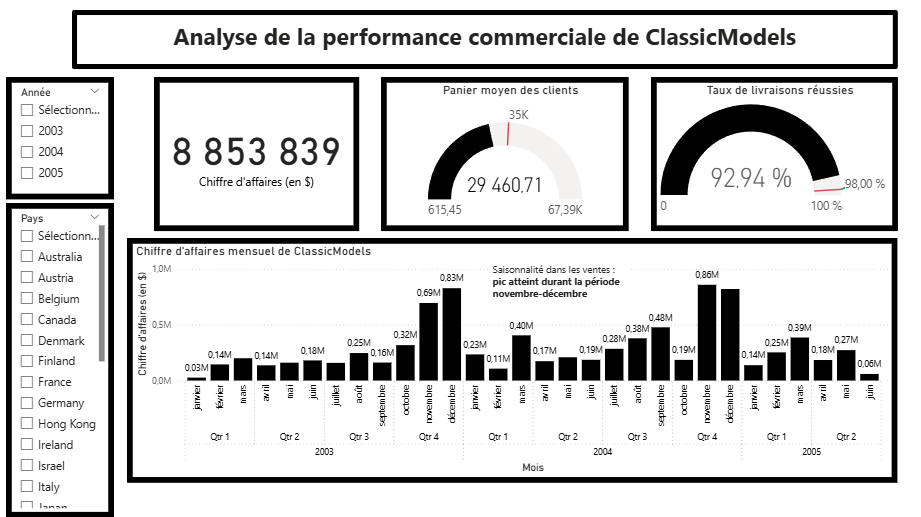

This screenshot's page, from the dashboard's own definition file:
{"tool":"powerbi","page":{"name":"Page 1","canvas":[1280,720],"ordinal":0},"visuals":[{"type":"columnChart","title":"Chiffre d''affaires mensuel de ClassicModels","fields":{"Y":["Sum(payments.ventes)"],"Category":["payments.Année","payments.paymentDate.Variation.Hiérarchie de dates.Trimestre","payments.paymentDate.Variation.Hiérarchie de dates.Mois"]},"box":[178.3,330,1070,340],"z":0},{"type":"slicer","fields":{"Values":["payments.Année"]},"box":[10,106.7,150,170],"z":2000},{"type":"textbox","box":[680,360,195,81.7],"z":3000},{"type":"slicer","fields":{"Values":["customers.country"]},"box":[10,281.7,150,436.7],"z":4001},{"type":"gauge","title":"Taux de livraisons réussies","fields":{"Y":["customers.TauxLivraisonsReussies"],"MinValue":["customers.Borne minimale"],"MaxValue":["customers.Borne maximale"],"TargetValue":["customers.Valeur cible"]},"box":[905.6,106.9,343.1,213.9],"z":4002},{"type":"gauge","title":"Panier moyen des clients","fields":{"Y":["customers.PanierMoyen"],"MinValue":["customers.PanierMin"],"MaxValue":["customers.PanierMax"],"TargetValue":["customers.Valeur cible panier moyen"]},"box":[530.6,106.9,344.4,213.9],"z":4003},{"type":"card","fields":{"Values":["Sum(payments.ventes)"]},"box":[215.3,106.9,284.7,213.9],"z":4004},{"type":"textbox","box":[101.7,13.3,1146.7,81.7],"z":4005}]}

Visuals, with their boxes in screenshot pixels (x1, y1, x2, y2), scaled from the page's 1280x720 canvas onto the 921x517 screenshot:
"Chiffre d''affaires mensuel de ClassicModels" columnChart: l=128, t=237, r=898, b=481
slicer - payments.Année: l=7, t=77, r=115, b=199
textbox: l=489, t=258, r=630, b=317
slicer - customers.country: l=7, t=202, r=115, b=516
"Taux de livraisons réussies" gauge: l=652, t=77, r=898, b=230
"Panier moyen des clients" gauge: l=382, t=77, r=630, b=230
card - Sum(payments.ventes): l=155, t=77, r=360, b=230
textbox: l=73, t=10, r=898, b=68
